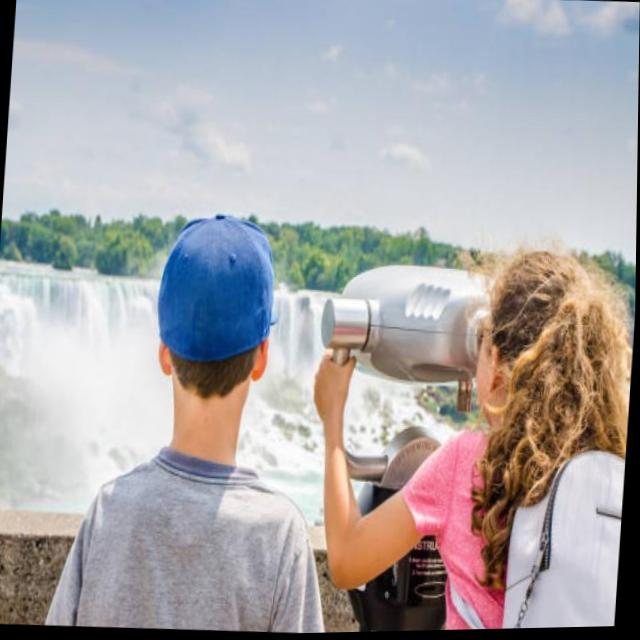no helmet: (141, 210, 296, 462)
